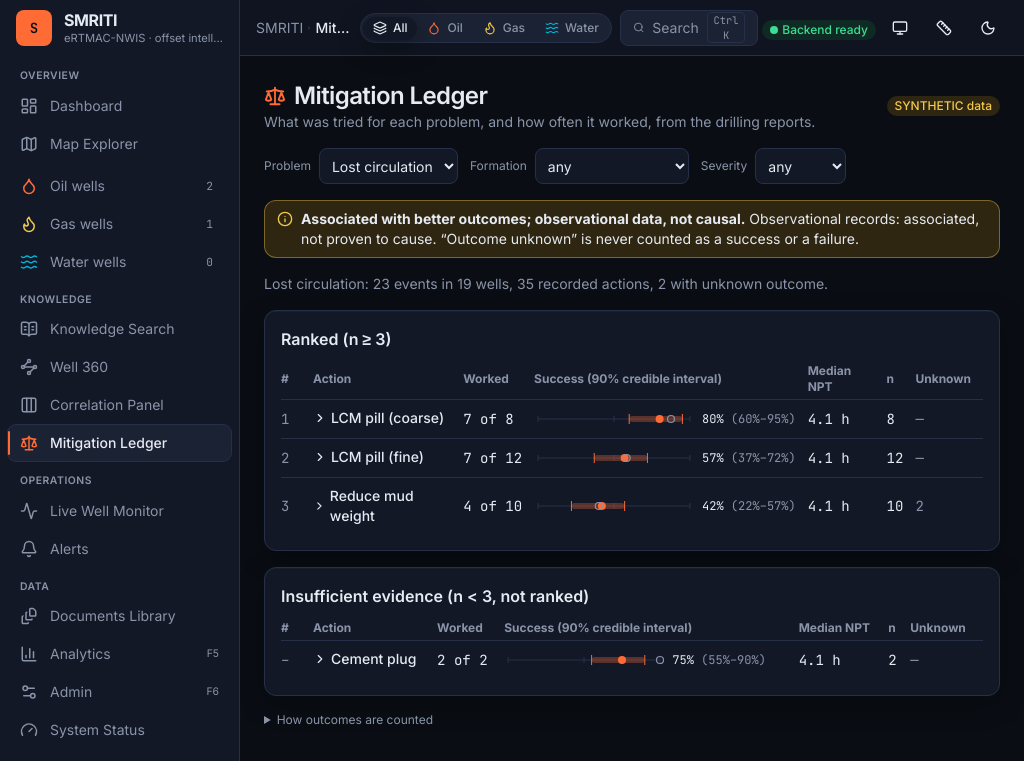
Test case: Mitigation Ledger › expands an action into its cases with evidence and recurrence
Click the button with test id "ledger-action" showing "LCM pill (coarse)" at [379, 418], box [313,408,444,428]
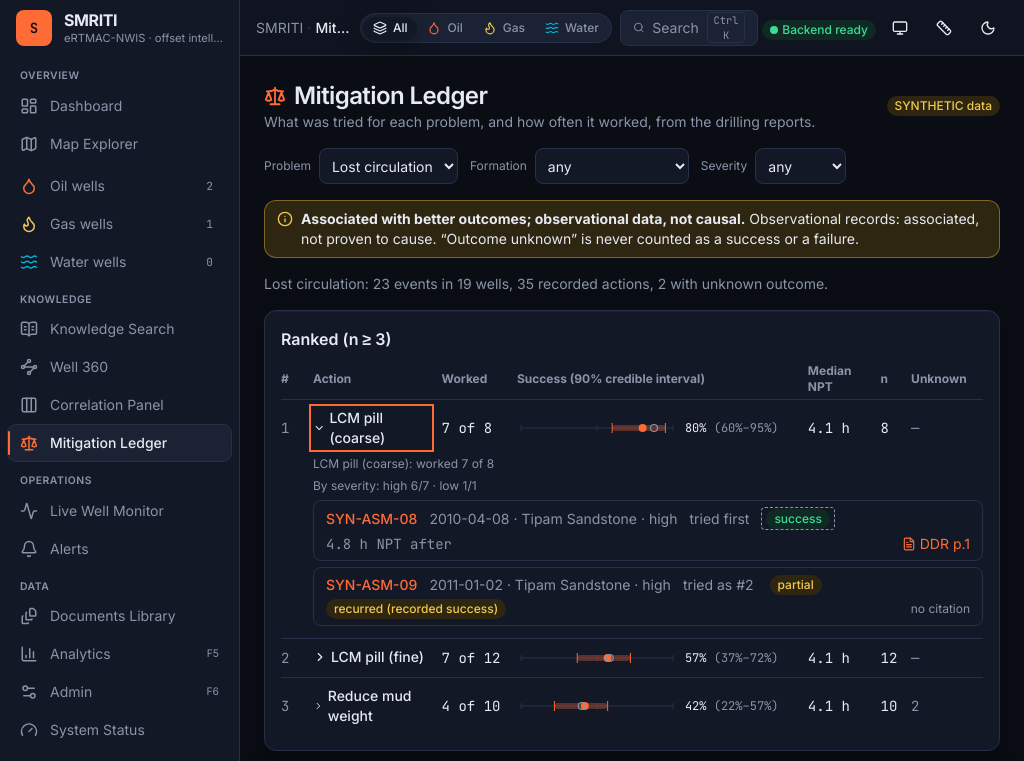
Now the button with test id "ledger-action" is expanded, box [313,408,430,448]
Now the button "DDR p.1" is shown, box [902,534,970,554]
Now the text "recurred (recorded success)" is shown, box [326,599,506,619]
